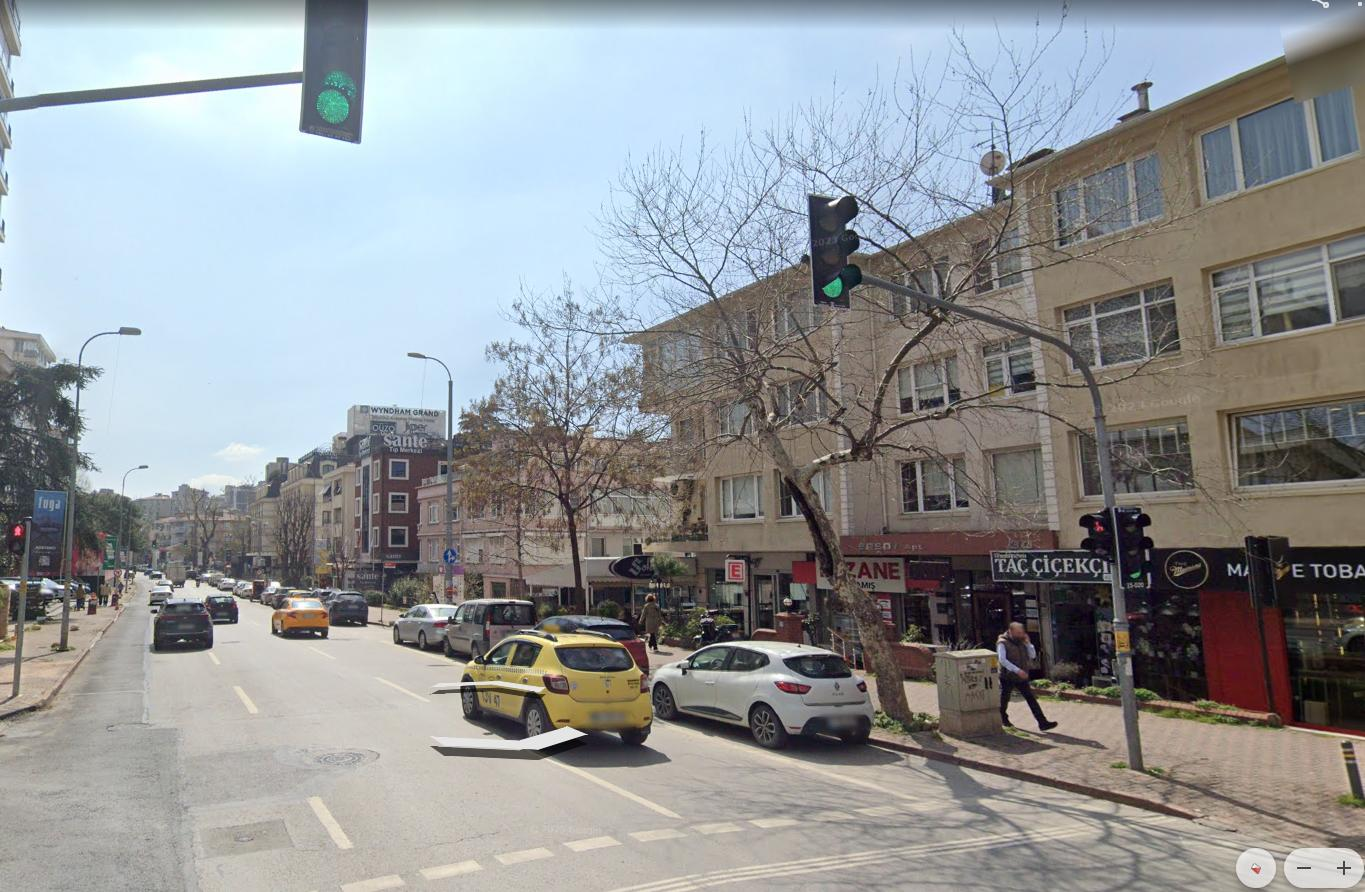greenlight: (299, 0, 362, 150), (804, 190, 868, 309), (1117, 505, 1153, 589)
